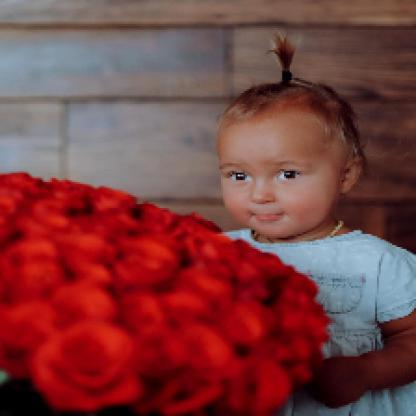child: (218, 33, 415, 416)
